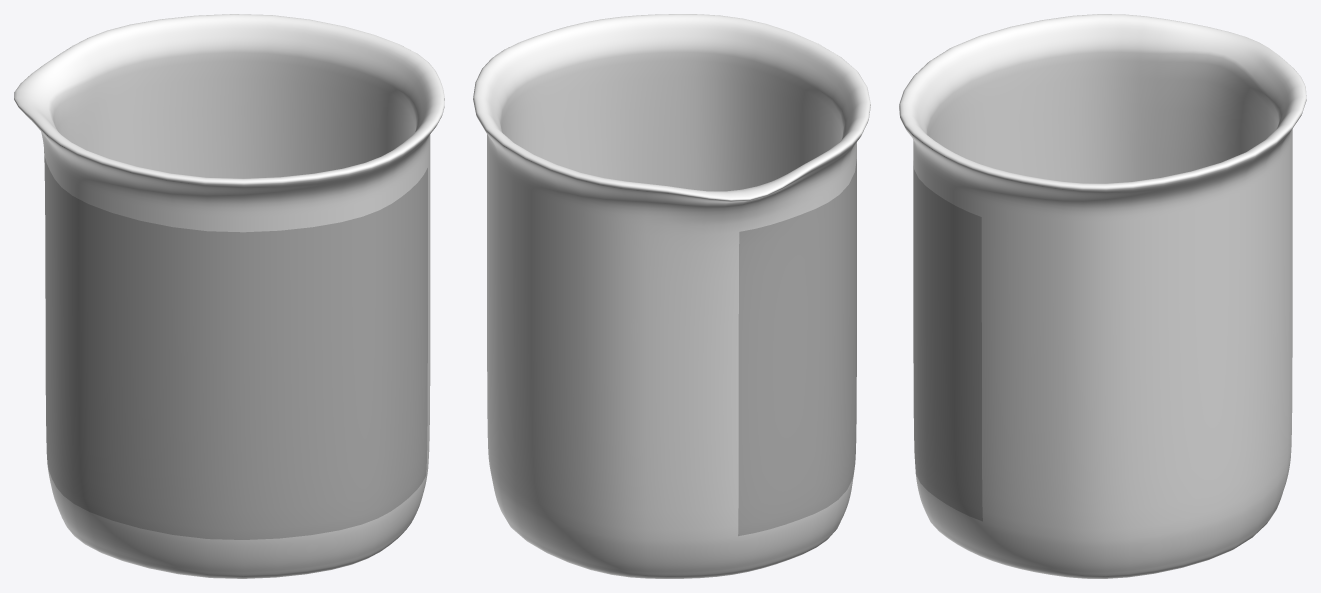
Rendered from cylinder_beaker.fbx.
The picture shows the model from 3 angles, left to right: view 1: azimuth 30°, elevation 25°; view 2: azimuth 150°, elevation 25°; view 3: azimuth 270°, elevation 25°; orthographic projection.
Parts seen in each view (by area): view 1: beaker; view 2: beaker; view 3: beaker.
Boxes of the visible parts, bbox=[...] form: beaker: bbox=[14, 14, 444, 578]; beaker: bbox=[473, 14, 870, 578]; beaker: bbox=[899, 14, 1306, 578].
Bounding box in the file's own units: 15.55 × 17.01 × 15.39.
